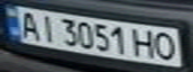0: (75, 19, 93, 51)
1: (109, 25, 130, 56)
3: (54, 16, 78, 47)
5: (90, 21, 112, 53)
A: (15, 8, 42, 41)
H: (130, 26, 160, 60)
I: (36, 11, 60, 43)
O: (151, 29, 181, 62)
